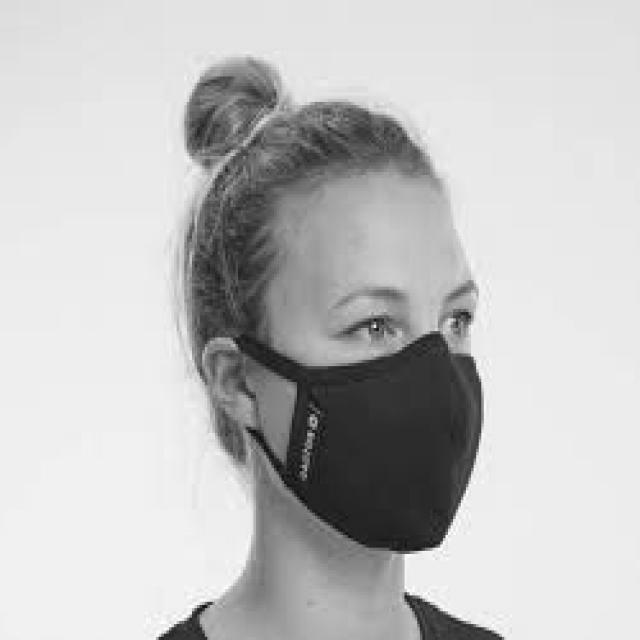fake: (226, 320, 516, 584)
real: (267, 165, 483, 560)
